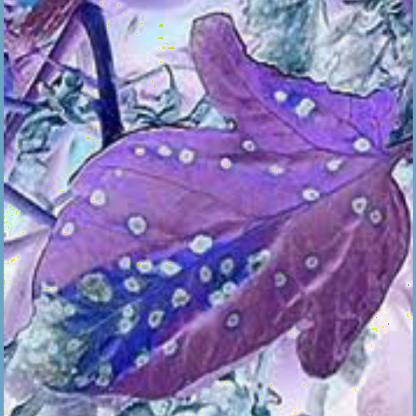tomato septoria leaf spot: (15, 12, 411, 406)
